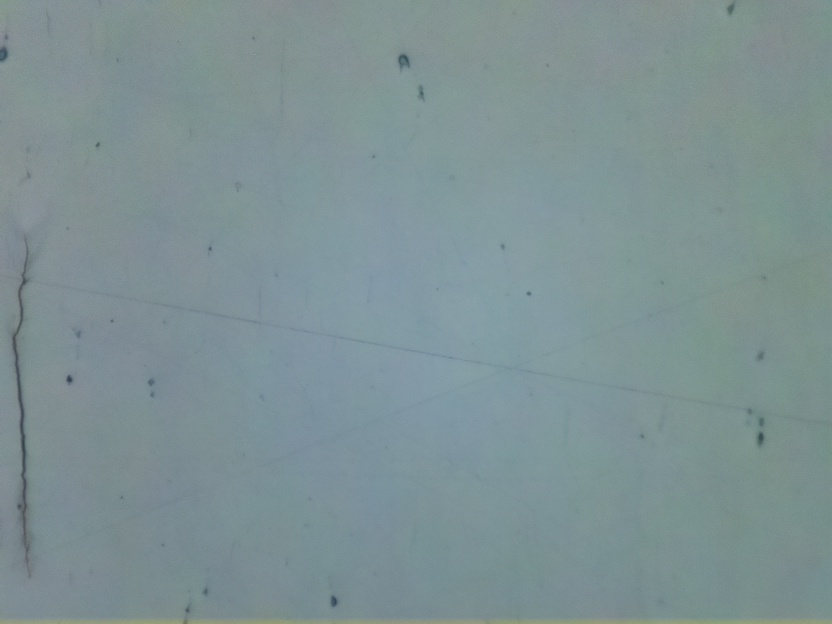crack: (12, 234, 36, 567)
